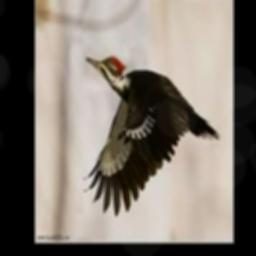Woodpecker: (82, 55, 219, 216)
